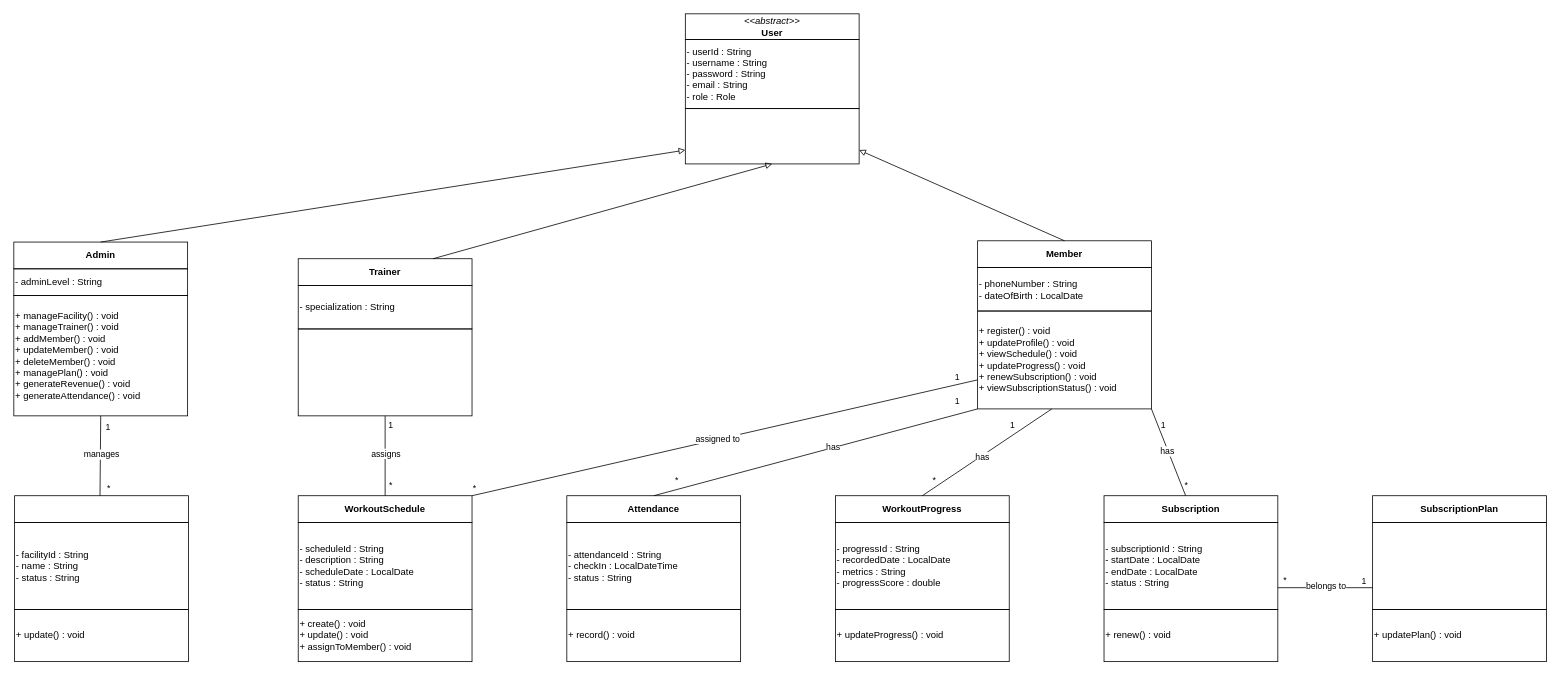
The diagram is 1560 pixels wide and 675 high, and some of its shapes have lost their labels. The shapes that lost their labels are listed below. From the top down, each one's box as (x1, y1, x2, y2) in pixels, then its label:
(685, 108, 859, 164): + login() : boolean + logout() : void + getRole() : Role
(297, 328, 472, 416): + assignSchedule() : void + trackAttendance() : void + trackProgress() : void
(14, 495, 188, 523): Facility
(1372, 522, 1546, 609): - planId : String - planName : String - price : double - durationMonths : int
